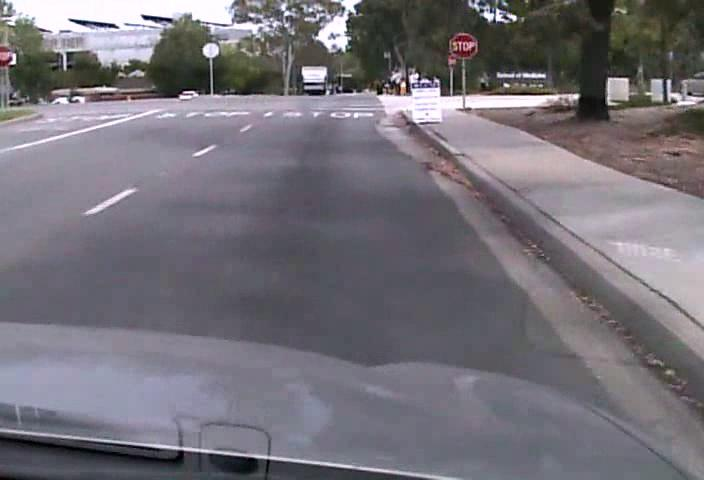stop: (448, 32, 478, 59)
